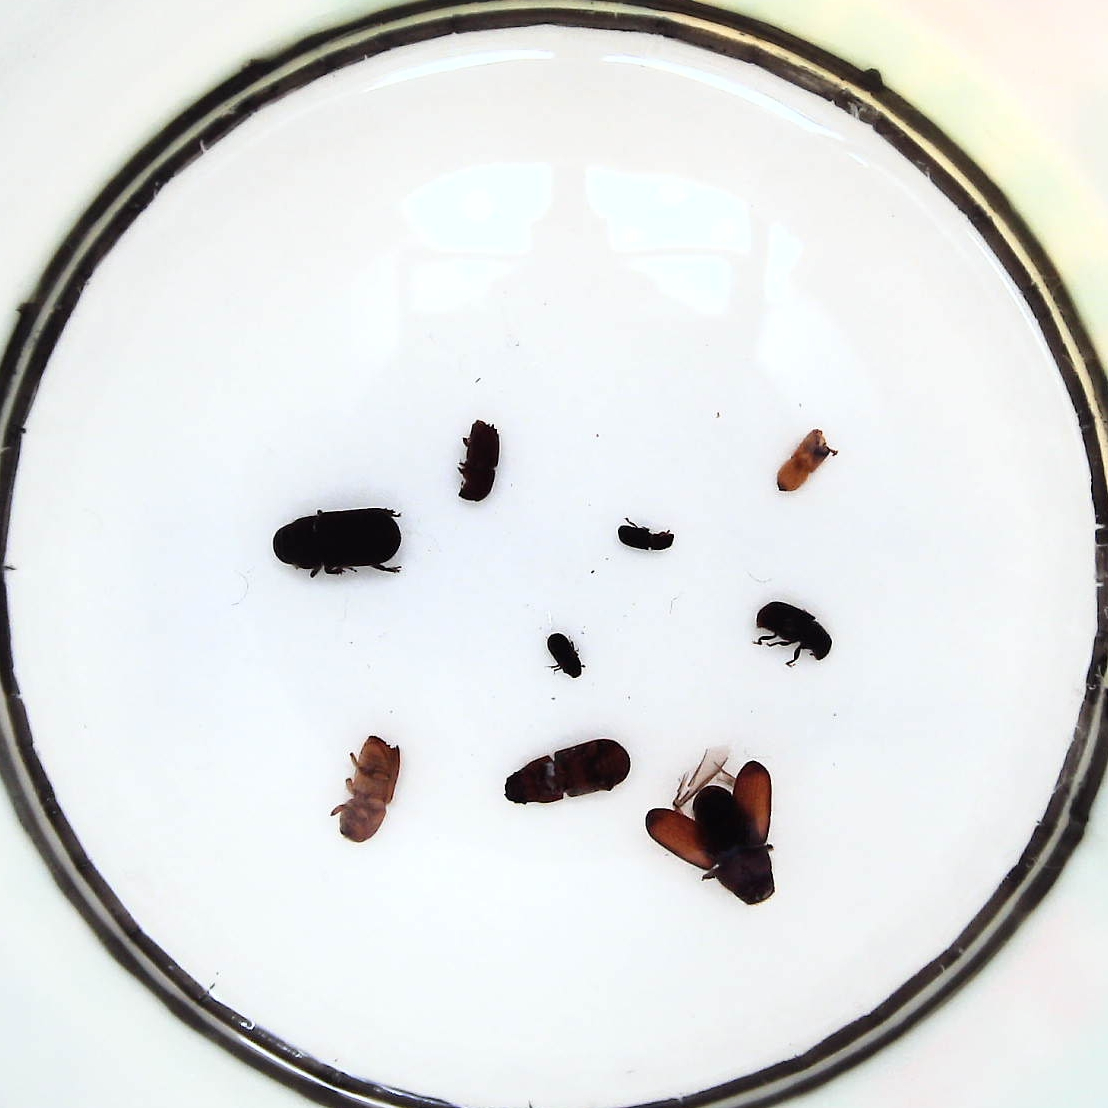Boerner: (338, 735, 400, 842)
Leconte: (647, 761, 776, 905), (505, 740, 631, 804), (273, 509, 402, 569)
acuminatus: (547, 632, 581, 680), (618, 524, 673, 552)
armandi: (756, 601, 832, 661)
coleoptera: (776, 430, 829, 492)
linnaeus: (459, 421, 501, 502)
